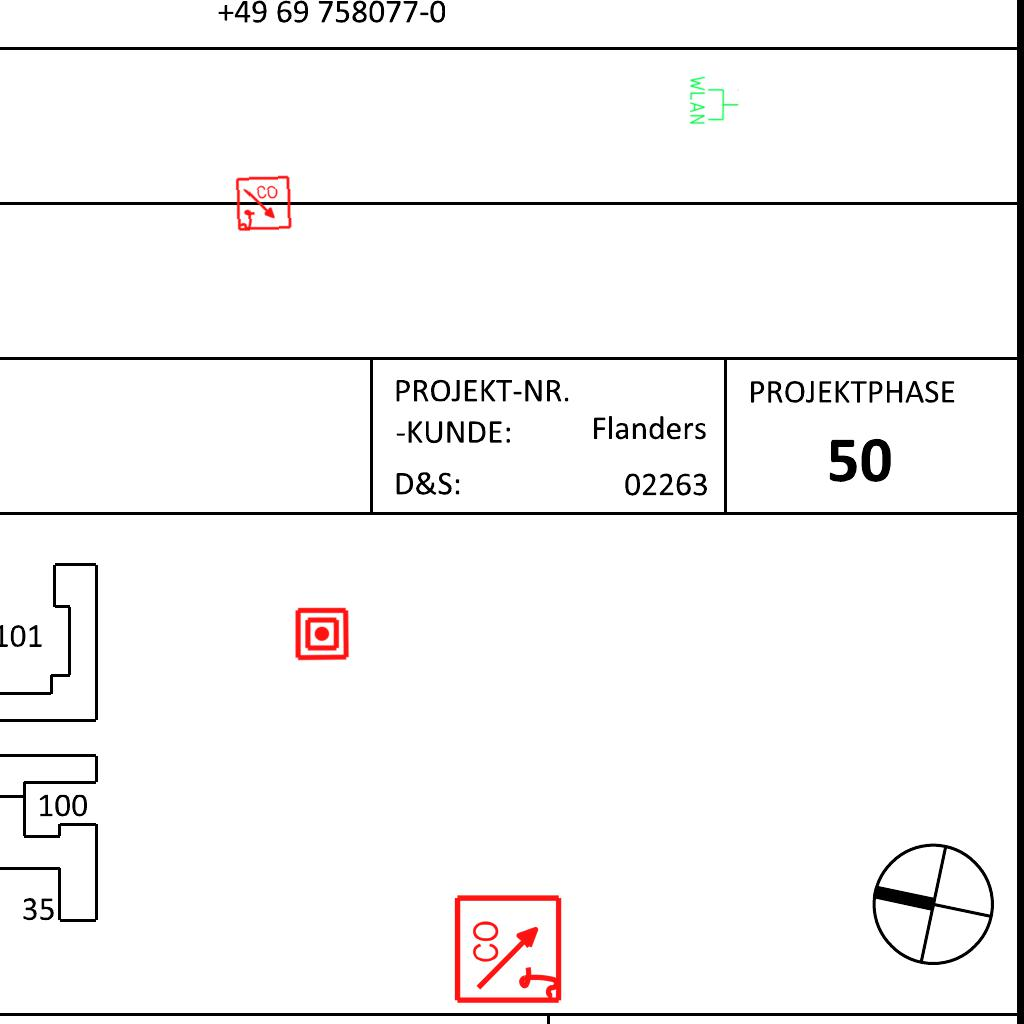NAM-Nichtautomatischer_Melder: (293, 605, 351, 663)
ROA_Rauchmelder_optisch_mit_Signalgeber_(Sockelsirene): (453, 892, 566, 1005), (235, 175, 293, 233)
WLAN: (688, 74, 740, 126)
